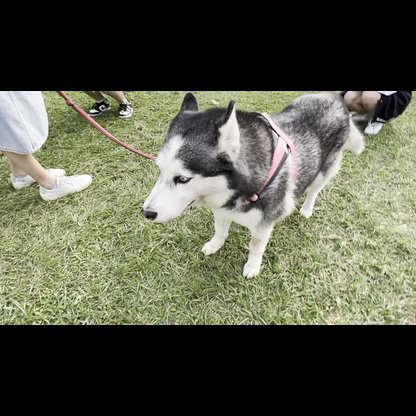husky: (140, 97, 367, 280)
